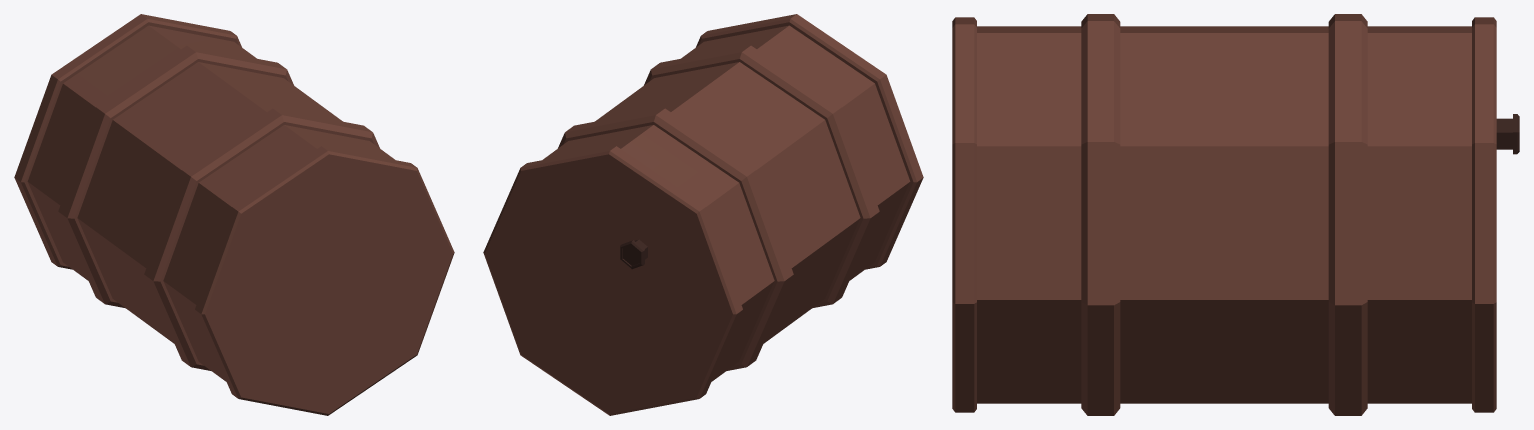
Rendered from LiquidDrum.fbx.
The picture shows the model from 3 angles, left to right: view 1: azimuth 30°, elevation 25°; view 2: azimuth 150°, elevation 25°; view 3: azimuth 270°, elevation 25°; orthographic projection. The views are drawn at different scales.
Parts seen in each view (by area): view 1: Cylinder; view 2: Cylinder; view 3: Cylinder.
Boxes of the visible parts, bbox=[...] form: Cylinder: bbox=[14, 14, 454, 415]; Cylinder: bbox=[483, 14, 923, 415]; Cylinder: bbox=[952, 14, 1519, 415].
Size of the model in its own units: 432 by 432 by 573.
